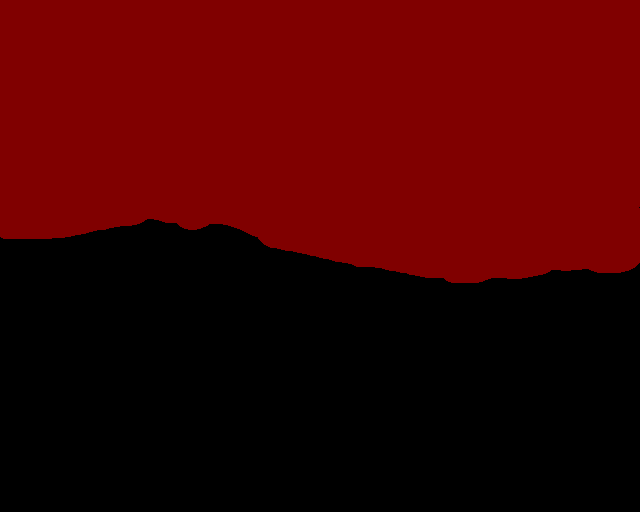Sky: (1, 1, 639, 282)
